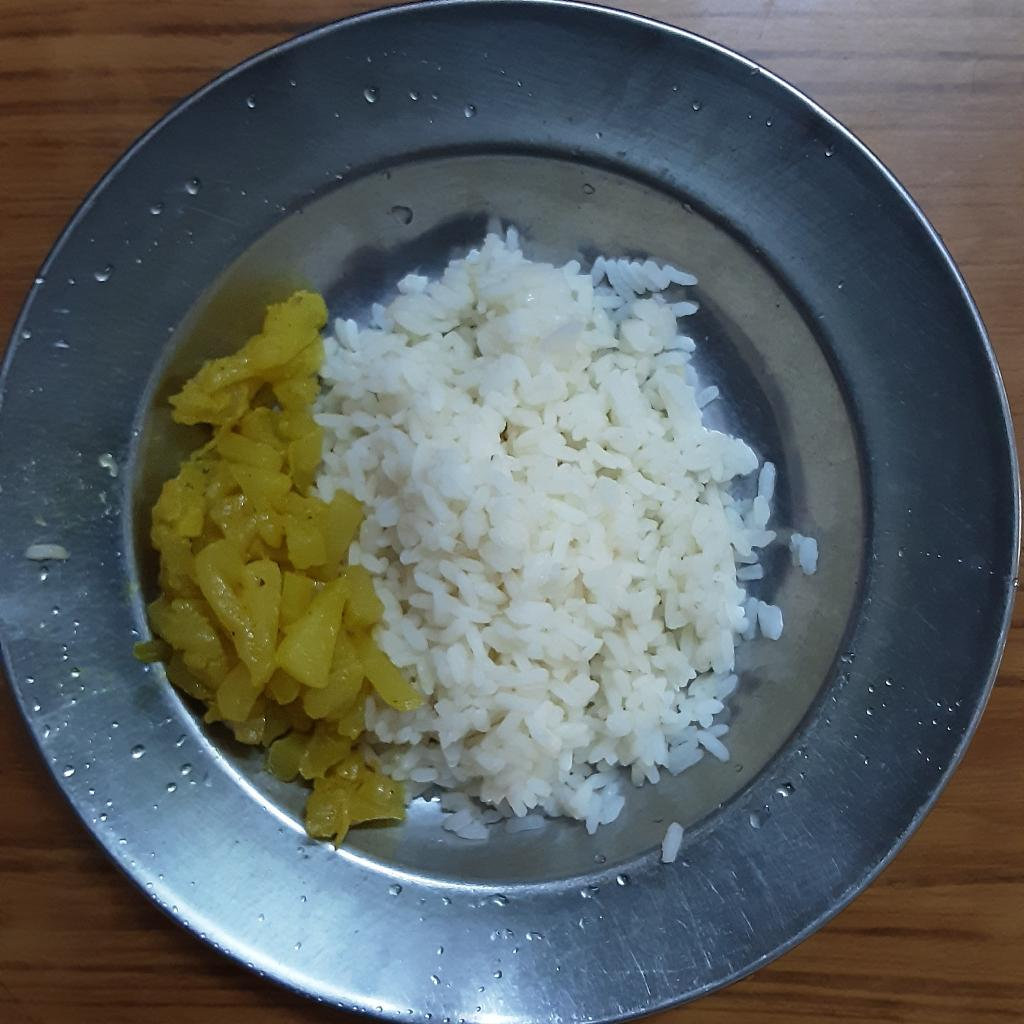papaya: (125, 292, 417, 840)
rice: (315, 219, 822, 840), (661, 809, 681, 870), (27, 538, 72, 562)
